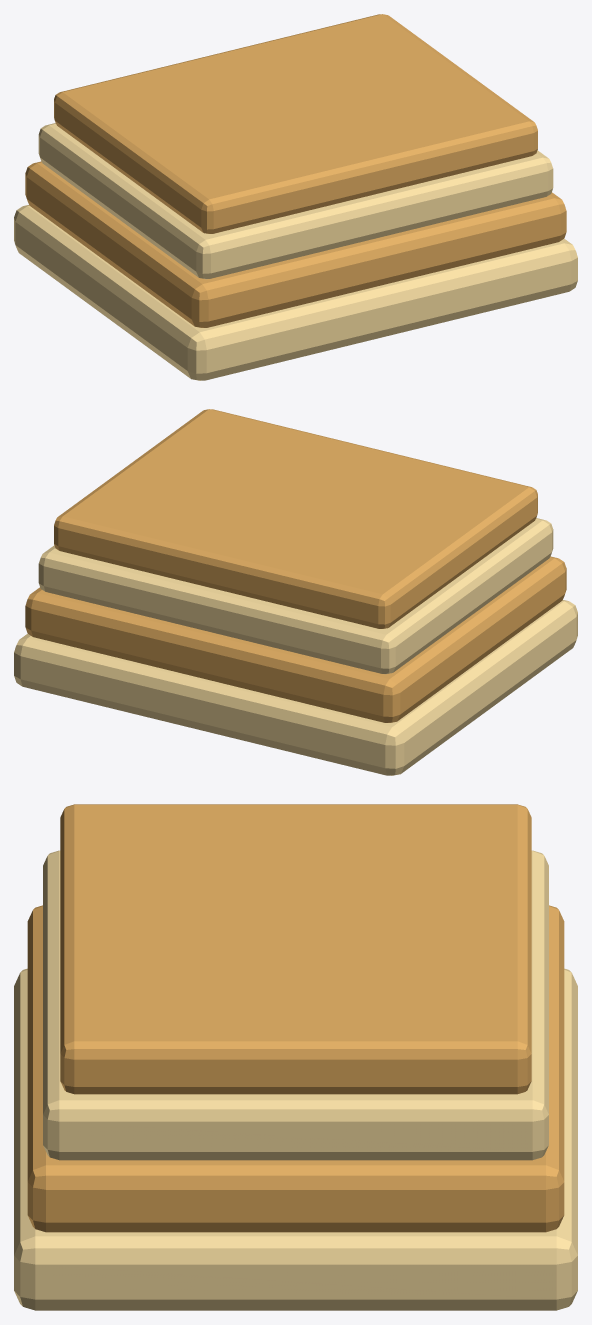
File: PuffPastryDough.glb
3 renders of one model, top to bottom at view 1: azimuth 30°, elevation 25°; view 2: azimuth 150°, elevation 25°; view 3: azimuth 270°, elevation 25°, orthographic. The views are drawn at different scales.
Visible parts, largest first — view 1: PuffPastryTopFold, PuffPastryBase, PuffPastryLayer1, PuffPastryLayer2; view 2: PuffPastryTopFold, PuffPastryBase, PuffPastryLayer1, PuffPastryLayer2; view 3: PuffPastryTopFold, PuffPastryBase, PuffPastryLayer1, PuffPastryLayer2.
Part boxes in pixels (x1,y1,x2,y2): PuffPastryTopFold: [54, 14, 537, 233]; PuffPastryBase: [14, 205, 577, 380]; PuffPastryLayer1: [25, 161, 566, 327]; PuffPastryLayer2: [38, 123, 553, 279]; PuffPastryTopFold: [54, 409, 537, 628]; PuffPastryBase: [14, 600, 577, 775]; PuffPastryLayer1: [25, 556, 566, 722]; PuffPastryLayer2: [38, 518, 553, 674]; PuffPastryTopFold: [60, 804, 531, 1094]; PuffPastryBase: [14, 968, 577, 1310]; PuffPastryLayer1: [27, 905, 564, 1232]; PuffPastryLayer2: [43, 850, 548, 1160].
Bounding box in the file's own units: 1.76 × 0.72 × 1.46.
